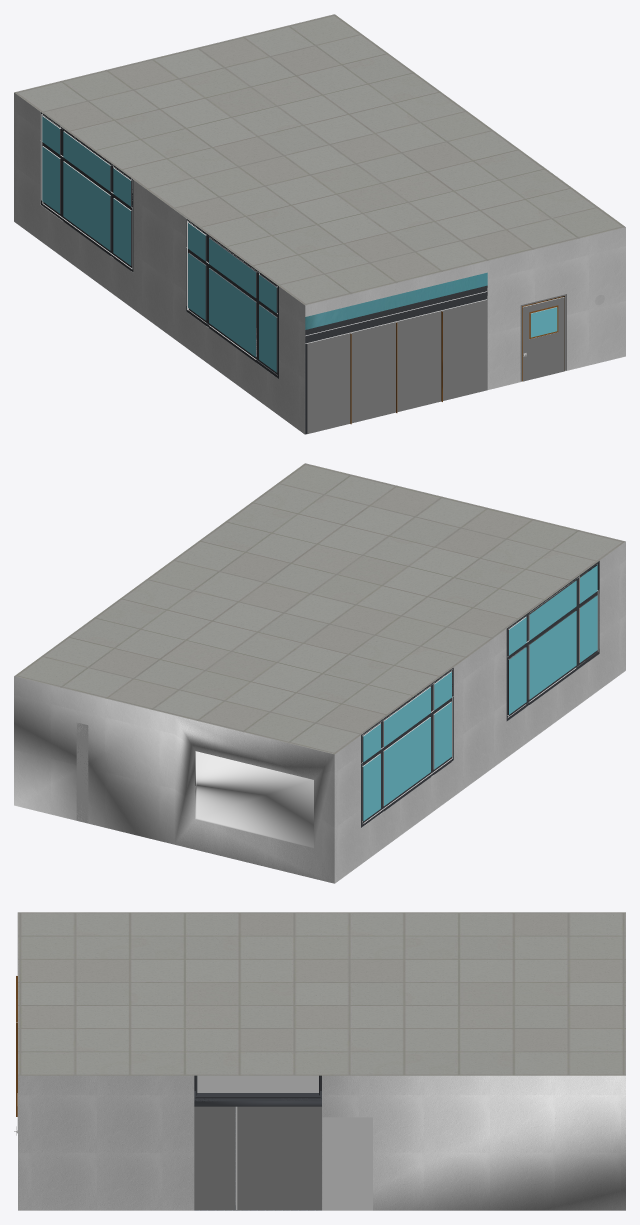
The model's file is AulaTerminadoBienFinall (1).fbx.
3 views of the same model, one above another, from view 1: azimuth 30°, elevation 25°; view 2: azimuth 150°, elevation 25°; view 3: azimuth 270°, elevation 25° (orthographic). The views are drawn at different scales.
Visible parts, largest first — view 1: texho, paredes blancas, Cube, Puerta, paredes celestes, madera; view 2: texho, paredes blancas, Cube; view 3: texho, paredes blancas, Puerta, Cube.
Part boxes in pixels (<box>): texho: <box>14,14,625,305</box>; paredes blancas: <box>14,92,625,434</box>; Cube: <box>40,112,566,434</box>; Puerta: <box>307,297,564,433</box>; paredes celestes: <box>305,272,487,329</box>; madera: <box>350,305,558,424</box>; texho: <box>14,463,625,754</box>; paredes blancas: <box>14,541,625,883</box>; Cube: <box>76,561,599,827</box>; texho: <box>18,912,625,1075</box>; paredes blancas: <box>16,912,625,1210</box>; Puerta: <box>194,1106,321,1209</box>; Cube: <box>14,975,372,1210</box>.
Bounding box in the file's own units: 700 × 280 × 1107.
